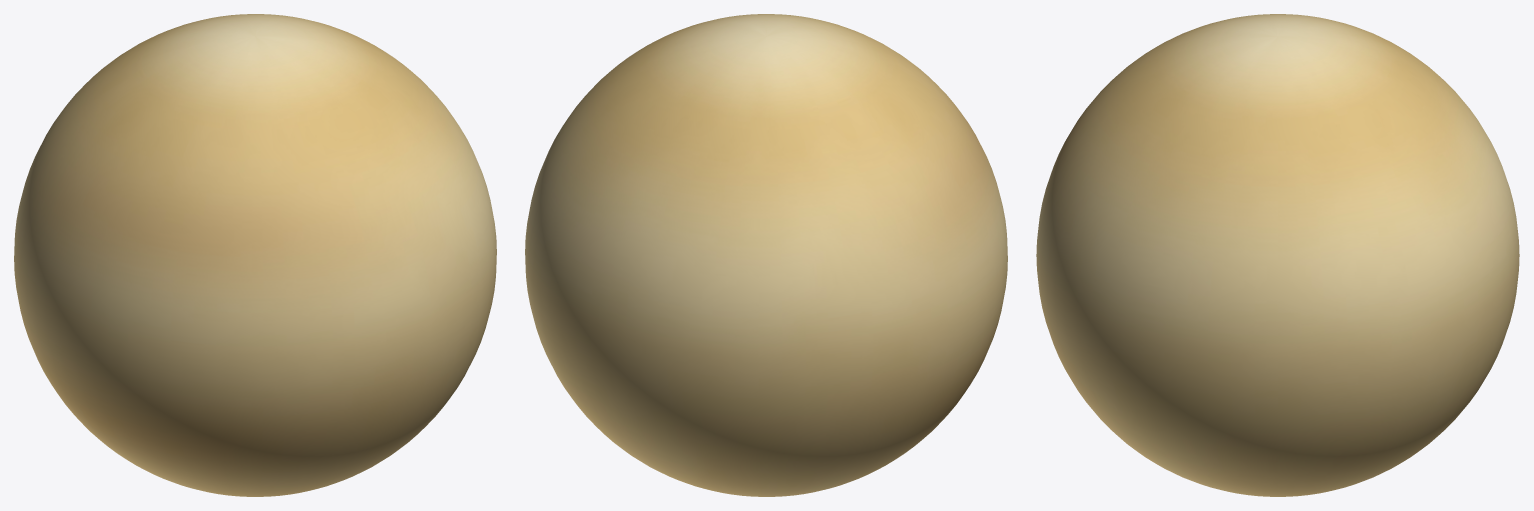
The model's file is planet_venus.glb.
The picture shows the model from 3 angles, left to right: view 1: azimuth 30°, elevation 25°; view 2: azimuth 150°, elevation 25°; view 3: azimuth 270°, elevation 25°; orthographic projection.
Parts seen in each view (by area): view 1: planet_venus; view 2: planet_venus; view 3: planet_venus.
Boxes of the visible parts, <box> form: planet_venus: <box>14,14,496,496</box>; planet_venus: <box>525,14,1007,496</box>; planet_venus: <box>1036,14,1519,496</box>.
Bounding box in the file's own units: 1 × 1 × 1.
Materials: 1 (1 with a texture image).
